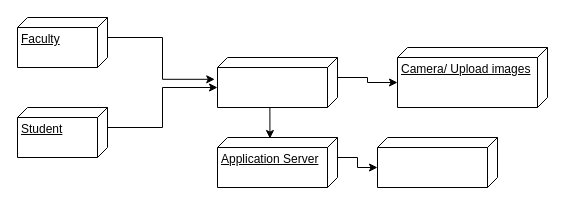
This 565x205 diagram has some shape labels left out. The shapes that lost their labels are listed below. From the top down, each one's centre as x and y in pixels, then its label:
At point (277, 82): "Facial recognition Attendance System".
At point (437, 162): "Database server".
